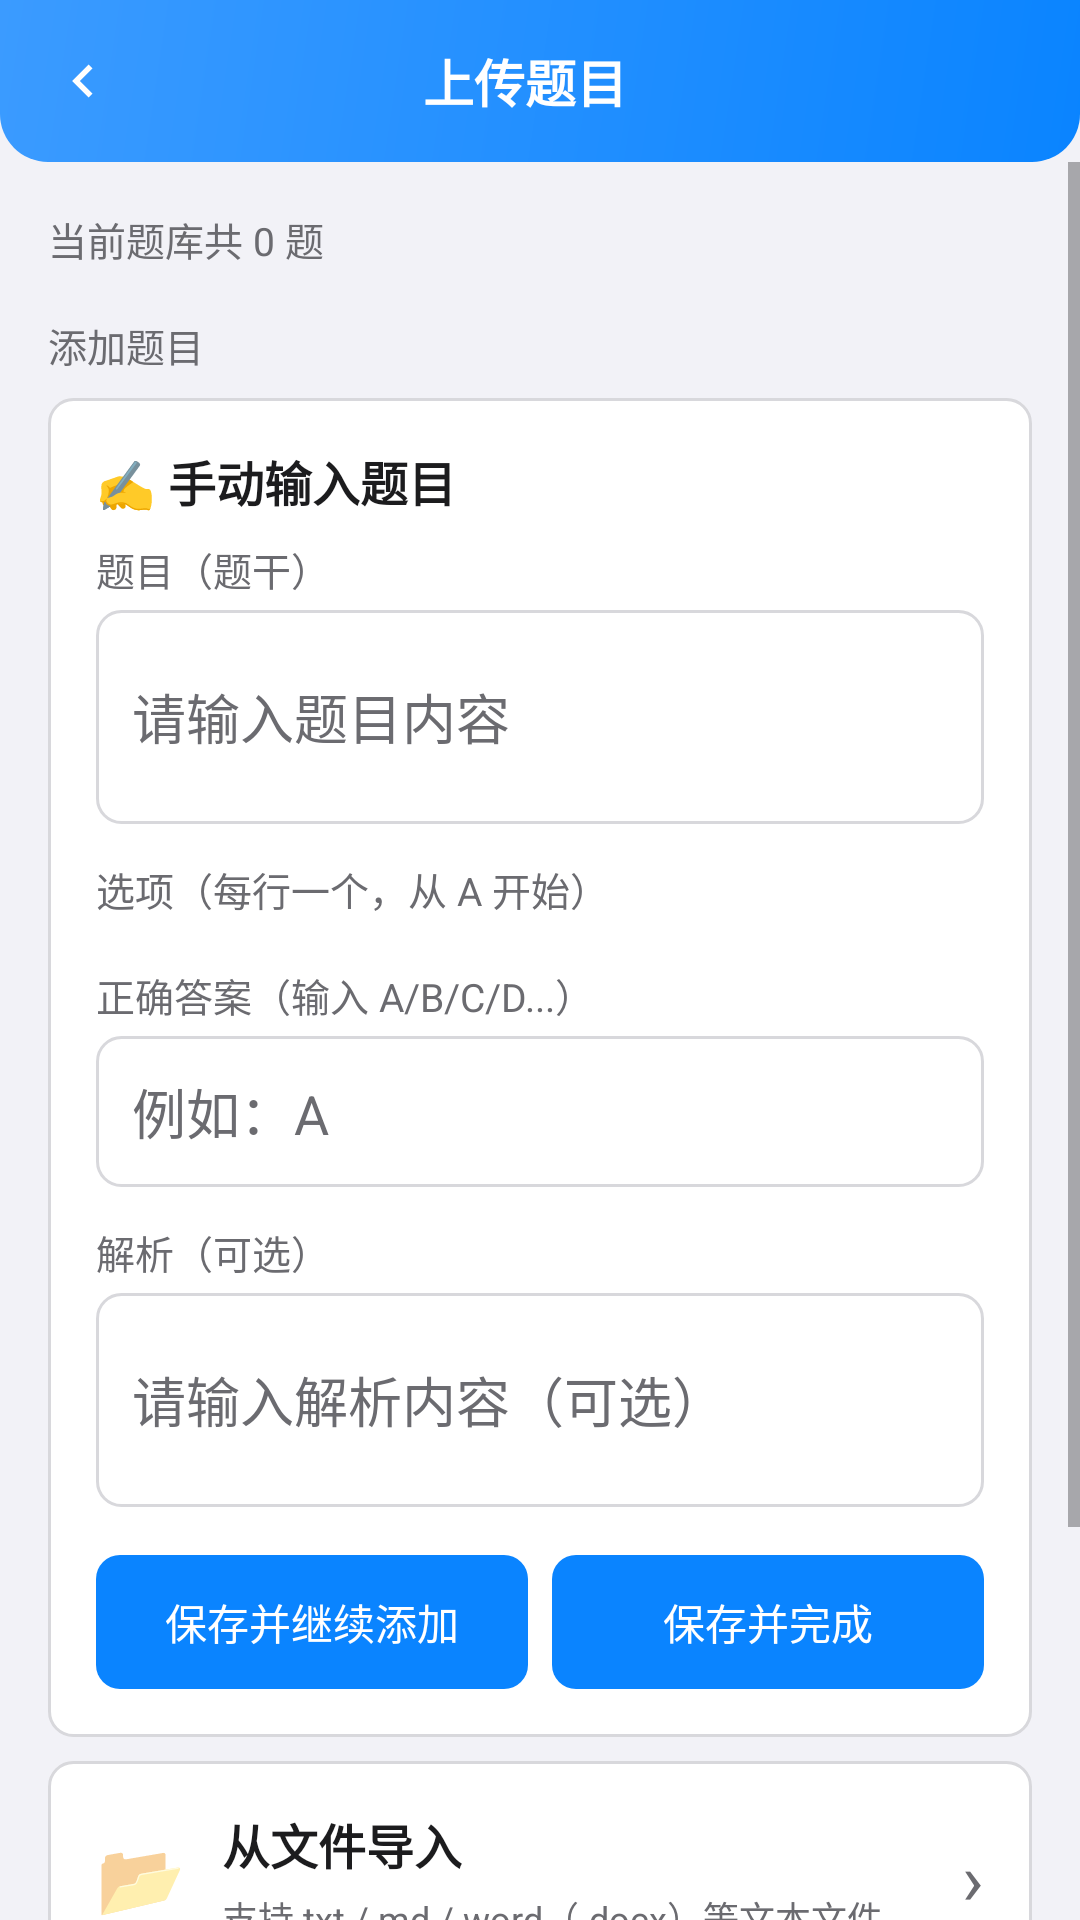

Screen size 1080 × 1920. Icon name, then its center in pixels as point (x, y):
返回: point (82, 81)
